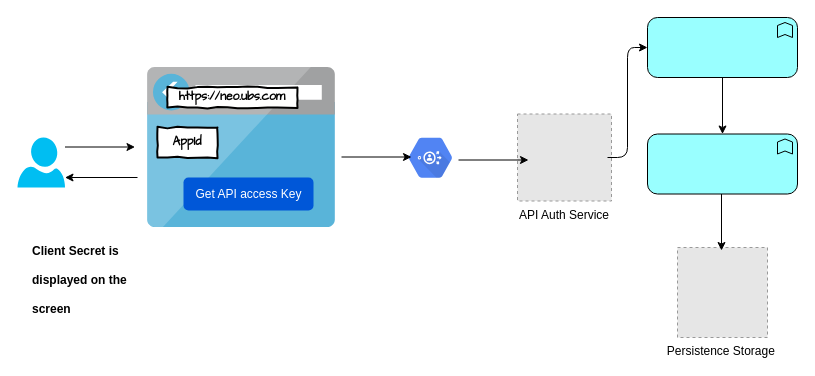
This 815x376 diagram has some shape labels left out. Grey dashed boxes stand in for pictures. The shapes that lost their labels are listed below. From the top down, each one's centre as x and y in pixels, then its label:
the point at 722,47: Check Entitlements Using UBS_NEO_AUTH Cookie
the point at 430,157: Neo Rest Proxy
the point at 722,163: Client Secret is generated using AES Encryption 128 bytes
